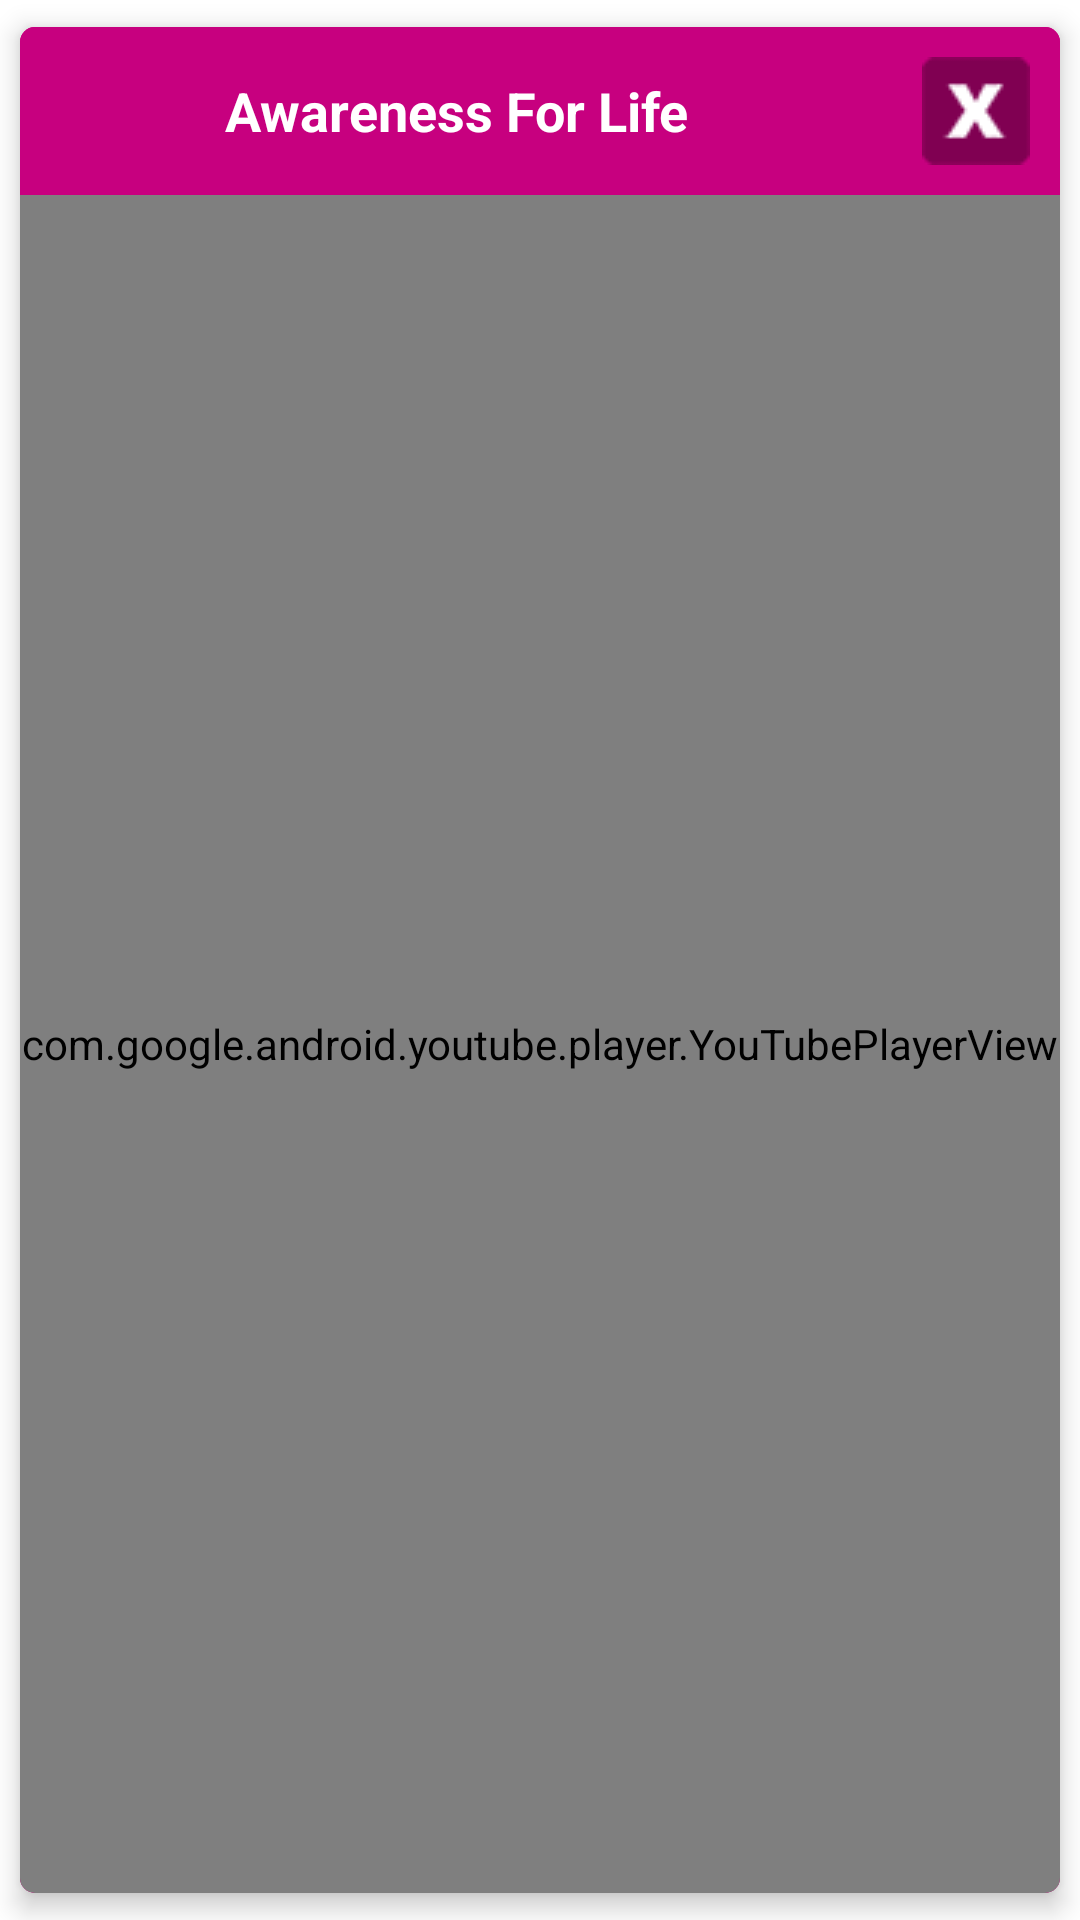

Named icons in this screenshot (1080x1920) and their centers, point (x, y):
exit: point (976, 111)
